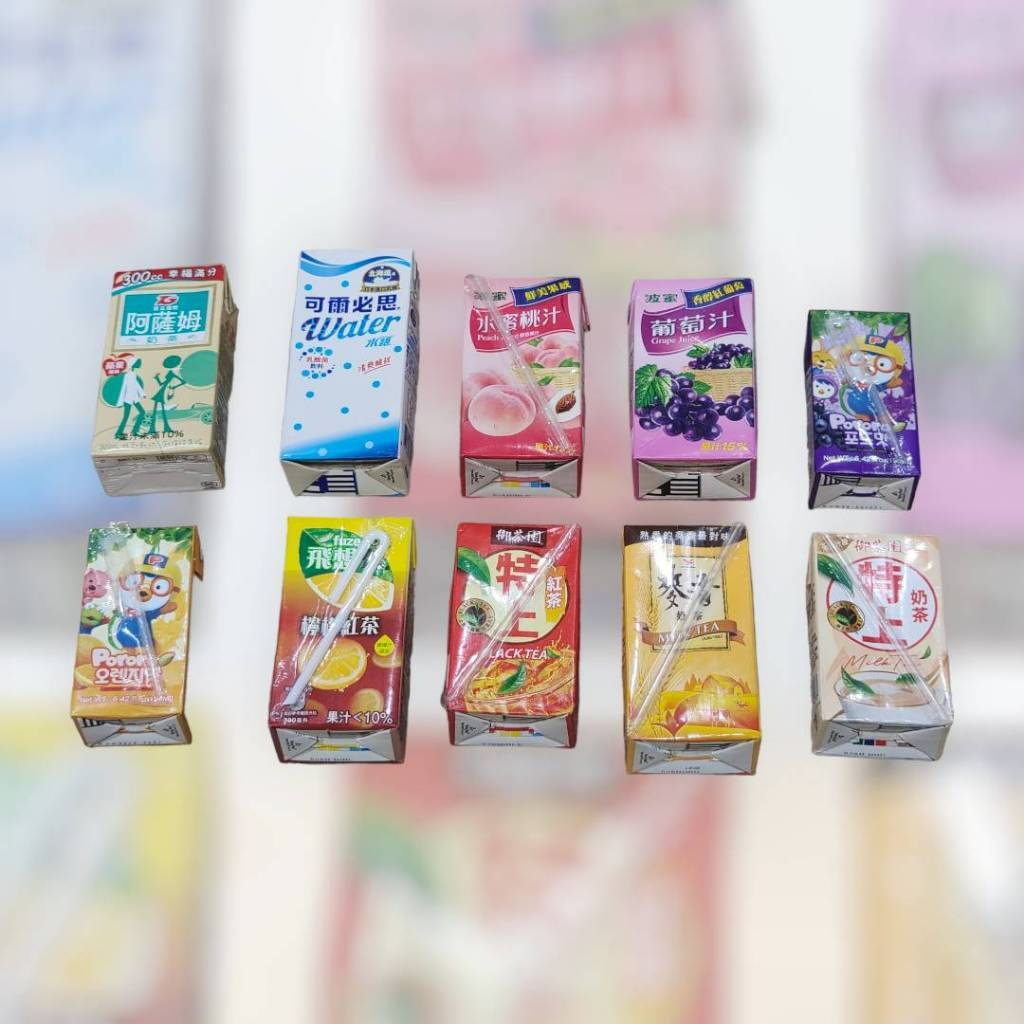鋁箔包: (612, 520, 776, 788), (796, 524, 966, 775), (268, 238, 428, 502), (266, 509, 415, 772), (439, 520, 601, 750), (91, 260, 235, 502), (448, 263, 592, 504), (621, 272, 763, 511), (71, 518, 211, 750), (794, 303, 927, 520)
